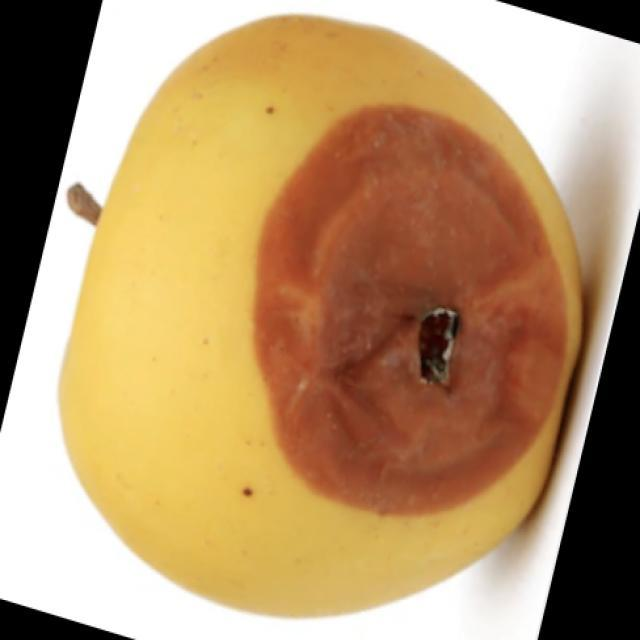Rotten: (56, 13, 578, 640)
